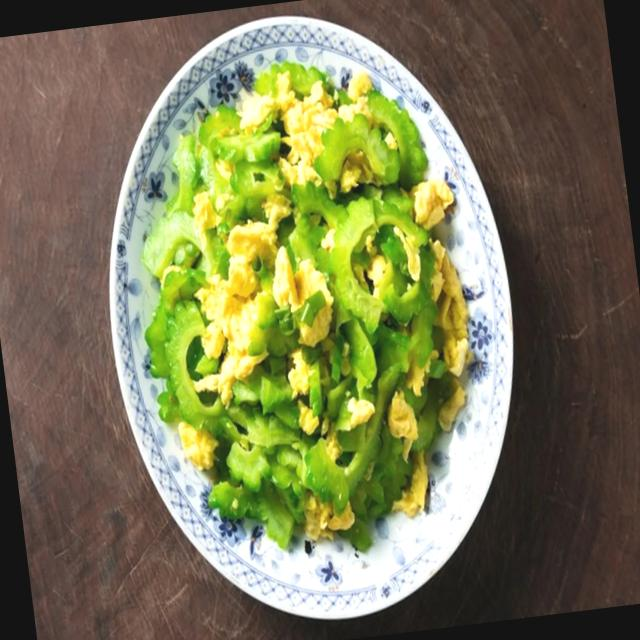kho qua: (142, 62, 470, 550)
